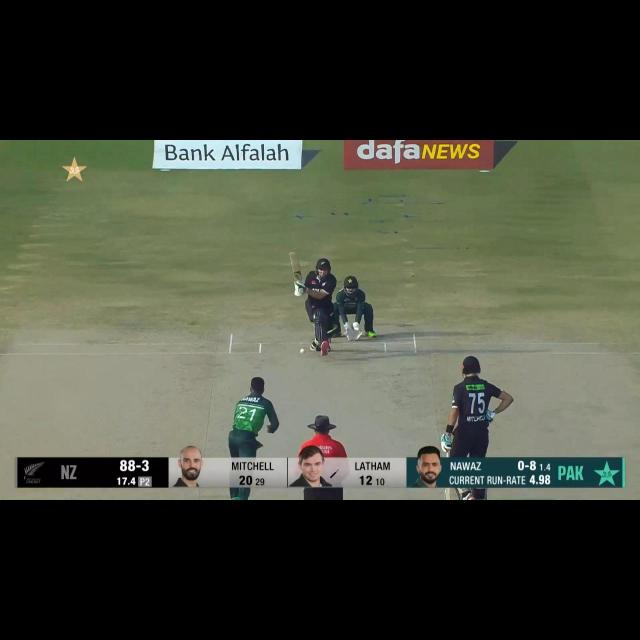bat: (287, 250, 305, 283), (444, 494, 456, 500)
toe: (444, 487, 455, 500), (289, 250, 299, 260)
